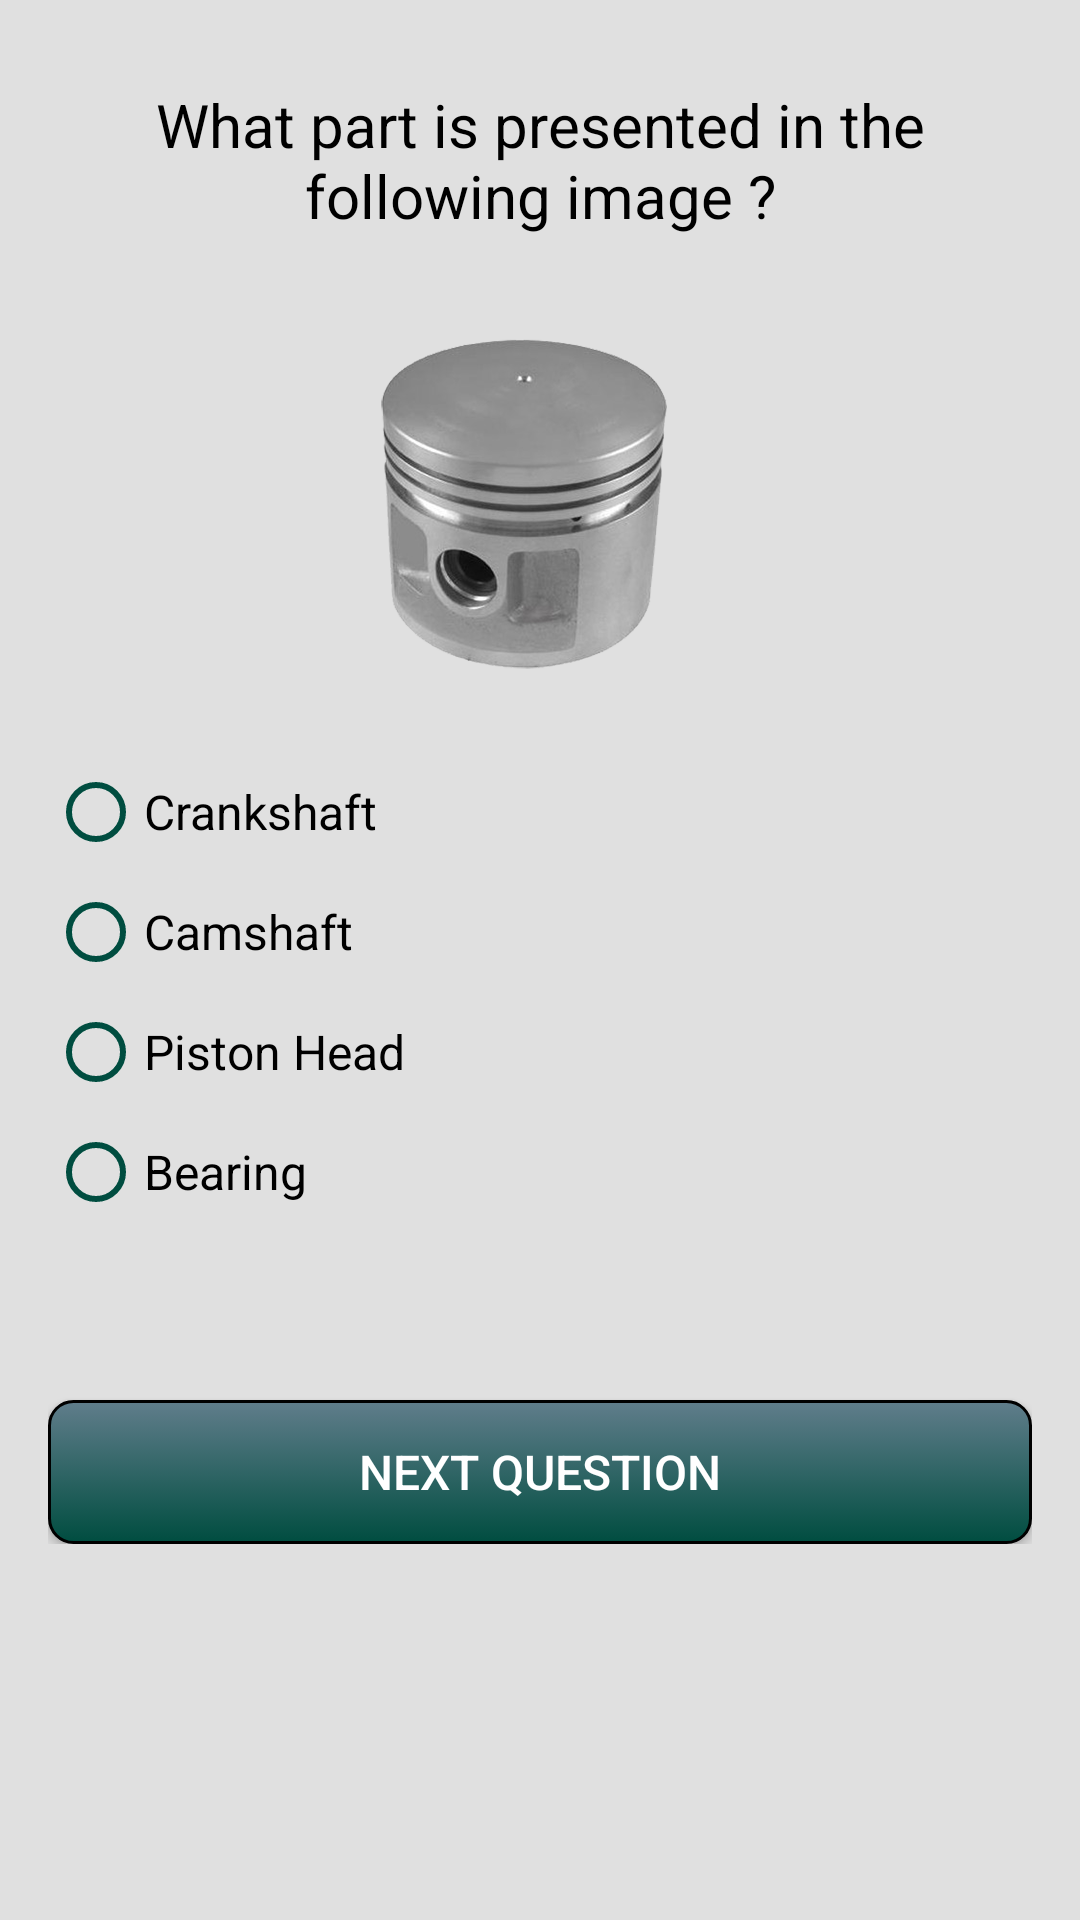

Icons on this 1080 × 1920 Android screen, each with its box as (x1, y1, x2, y2):
piston head: (381, 340, 667, 668)
